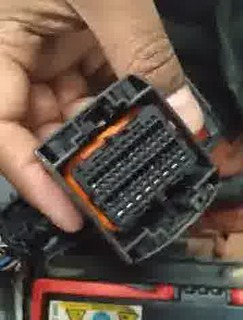connector: (33, 73, 221, 267)
